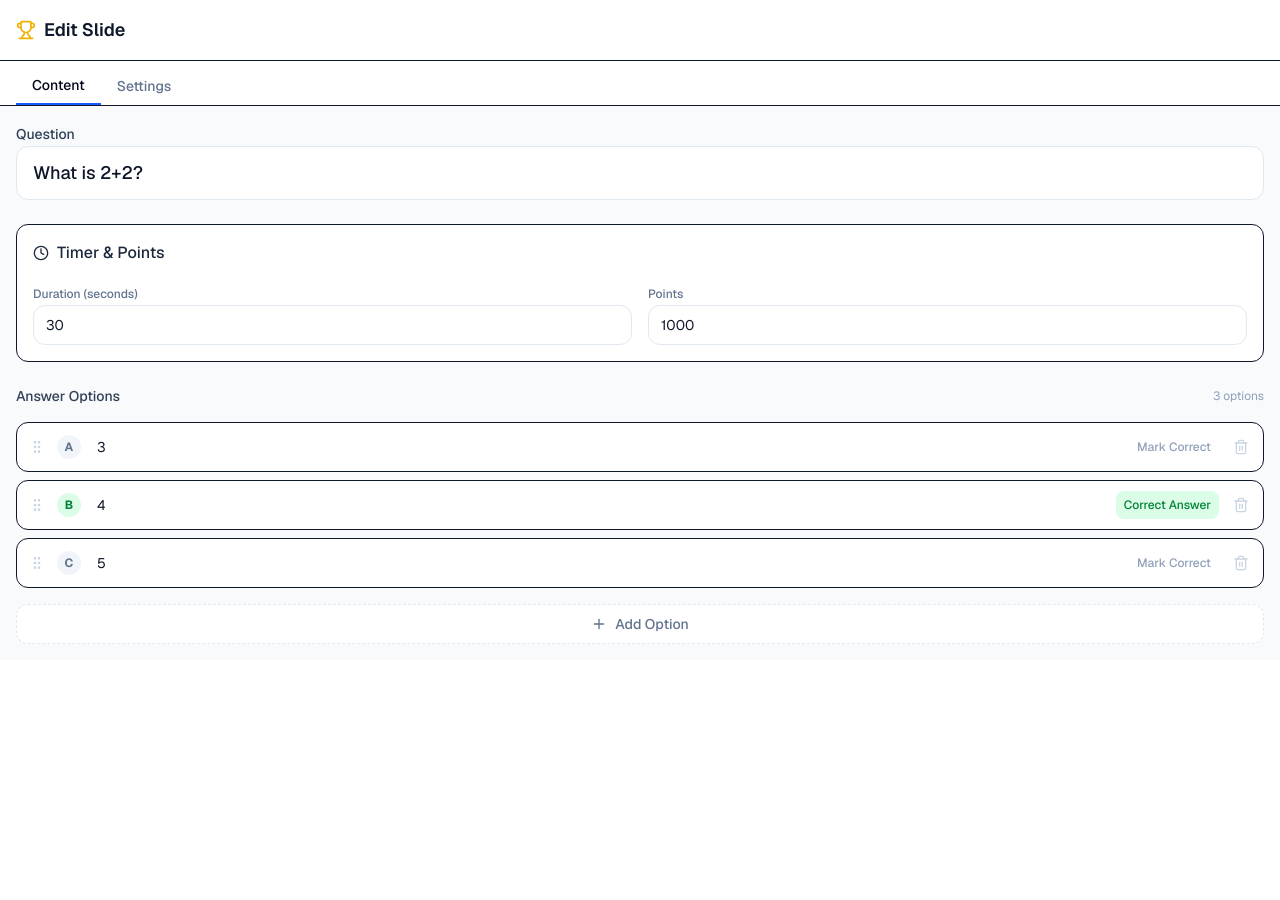
Test: SlideEditorPanel › quiz slide › marks an option as correct
This screenshot has width=1280, height=900.
Note: Click "Mark Correct" for the first option (currently incorrect)
Click the 1st button "Mark Correct" at (1174, 447), box [1129,433,1219,461]
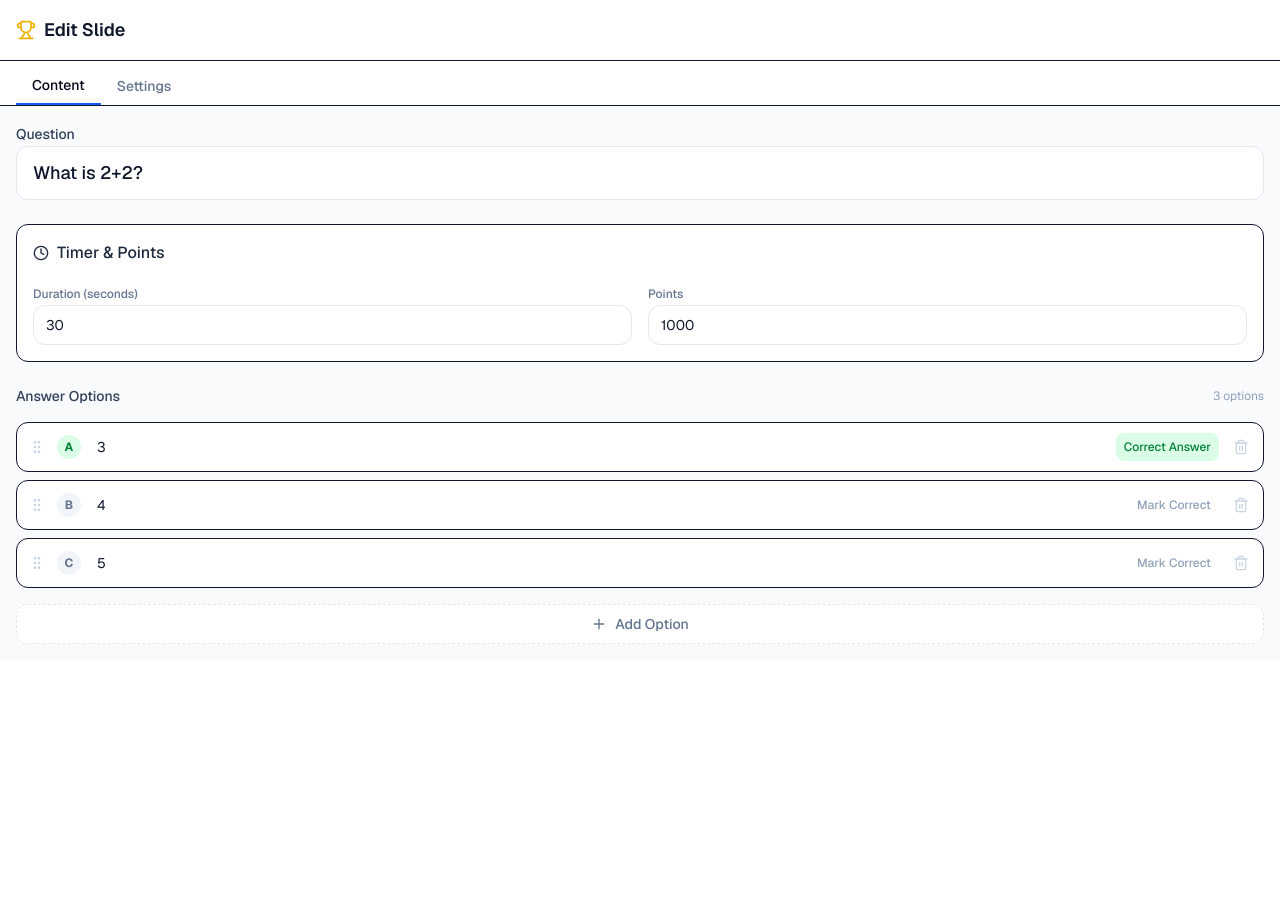
Expected: the button "Correct Answer" is shown, [1116,433,1219,461]
